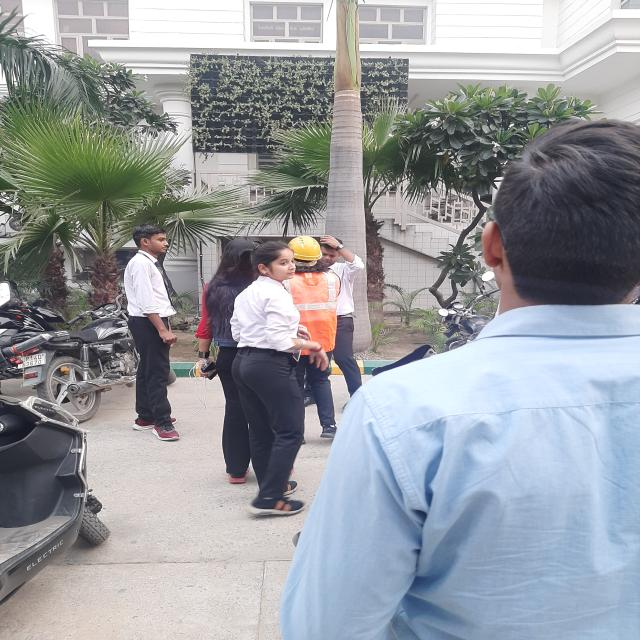unsafe: (223, 238, 311, 520), (112, 220, 188, 443)
